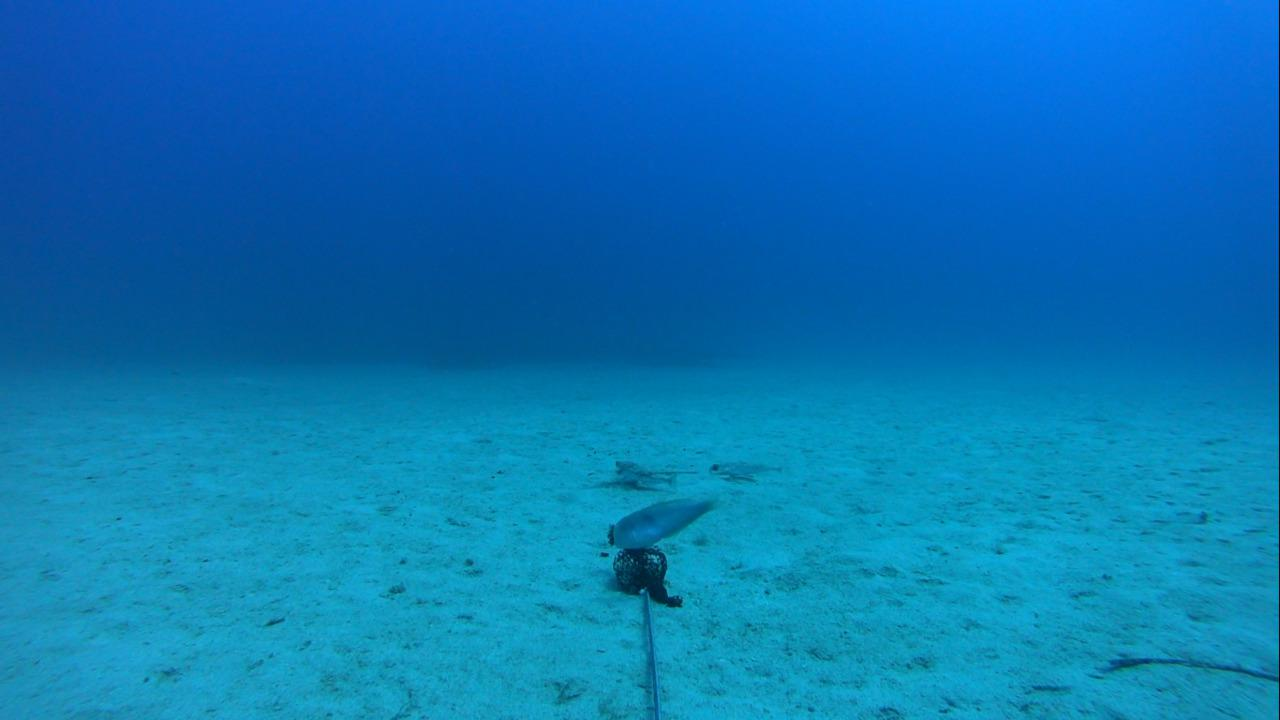dactylopterus: (589, 451, 687, 492), (701, 456, 797, 490)
raor: (606, 490, 718, 545)
